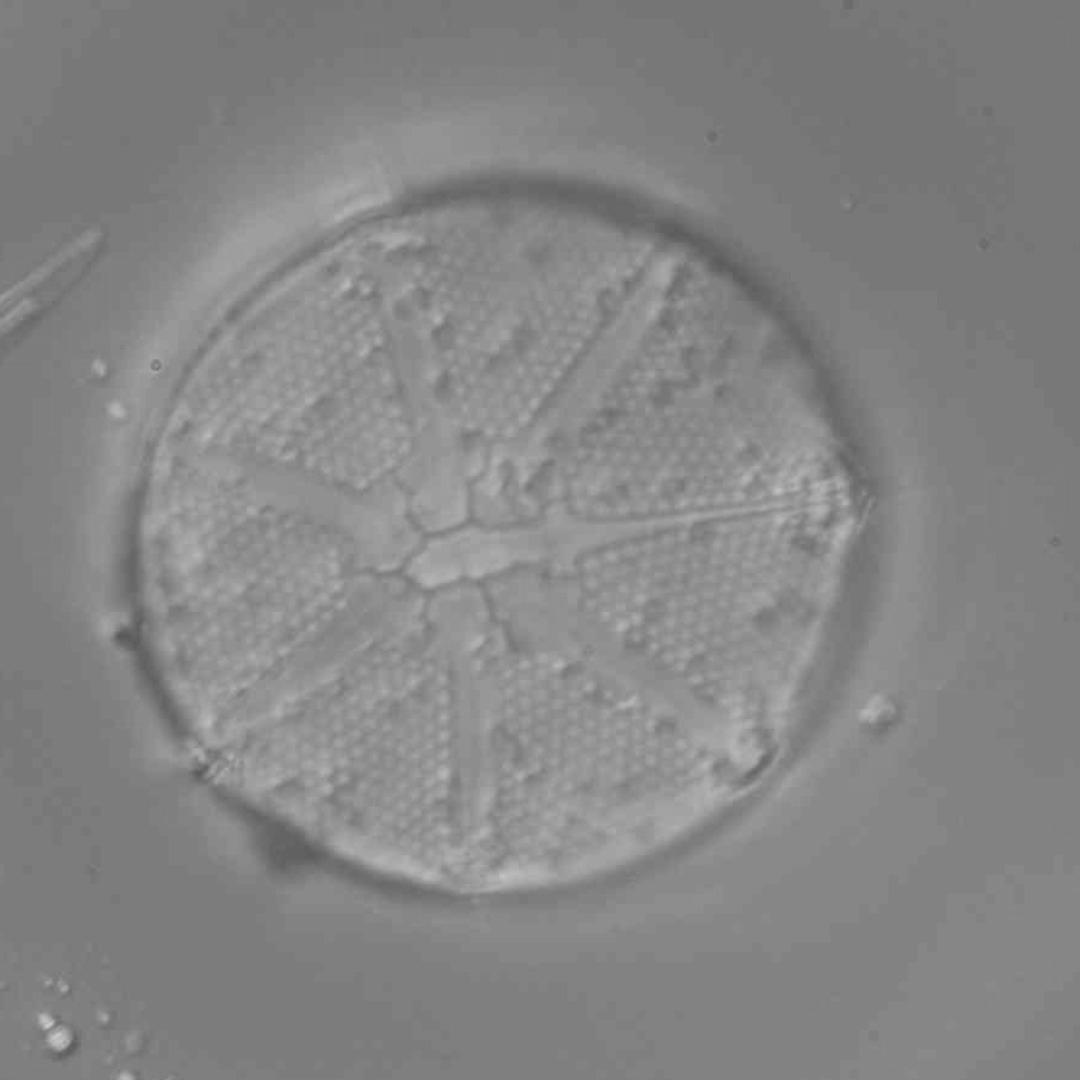asteromphalus_hyalinus: (133, 186, 878, 885)
